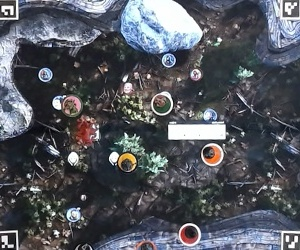giant_red_octopus: (78, 119, 101, 142)
green: (151, 92, 174, 115)
light_blue_orange: (131, 238, 162, 249)
orange: (202, 142, 225, 165)
pink_green: (61, 94, 84, 117)
red: (177, 220, 202, 245)
yellow_night_blue: (117, 151, 140, 174)
